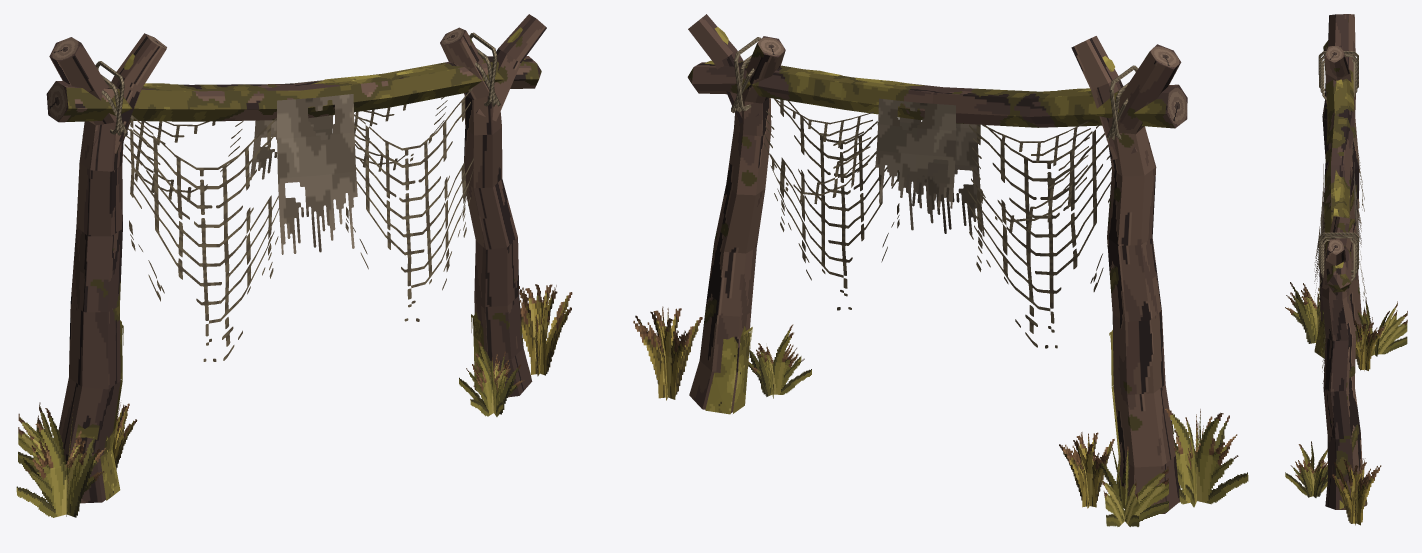
The model's file is SM_SW22_NetRack.fbx.
3 renders of one model, left to right at view 1: azimuth 30°, elevation 25°; view 2: azimuth 150°, elevation 25°; view 3: azimuth 270°, elevation 25°, orthographic. The views are drawn at different scales.
Visible parts, largest first — view 1: SW22a_Plants, SW22a_Bark, SW22a_BarkMossy, SW22a_Props, SW22a_Moss; view 2: SW22a_Plants, SW22a_Bark, SW22a_BarkMossy, SW22a_Moss, SW22a_Props; view 3: SW22a_Bark, SW22a_Plants, SW22a_BarkMossy, SW22a_Props, SW22a_Moss.
Part boxes in pixels (box(x1,y1,x2,y2)): SW22a_Plants: box(16, 80, 572, 517); SW22a_Bark: box(50, 14, 546, 503); SW22a_BarkMossy: box(56, 56, 541, 122); SW22a_Props: box(46, 27, 500, 136); SW22a_Moss: box(75, 27, 531, 500); SW22a_Plants: box(633, 98, 1248, 526); SW22a_Bark: box(688, 14, 1180, 513); SW22a_BarkMossy: box(687, 61, 1178, 128); SW22a_Moss: box(705, 27, 1173, 508); SW22a_Props: box(692, 17, 1187, 140); SW22a_Bark: box(1314, 14, 1366, 509); SW22a_Plants: box(1285, 126, 1407, 525); SW22a_BarkMossy: box(1323, 40, 1354, 292); SW22a_Props: box(1318, 45, 1358, 281); SW22a_Moss: box(1314, 79, 1367, 508).
Bounding box in the file's own units: 3.57 × 2.62 × 0.9188.
